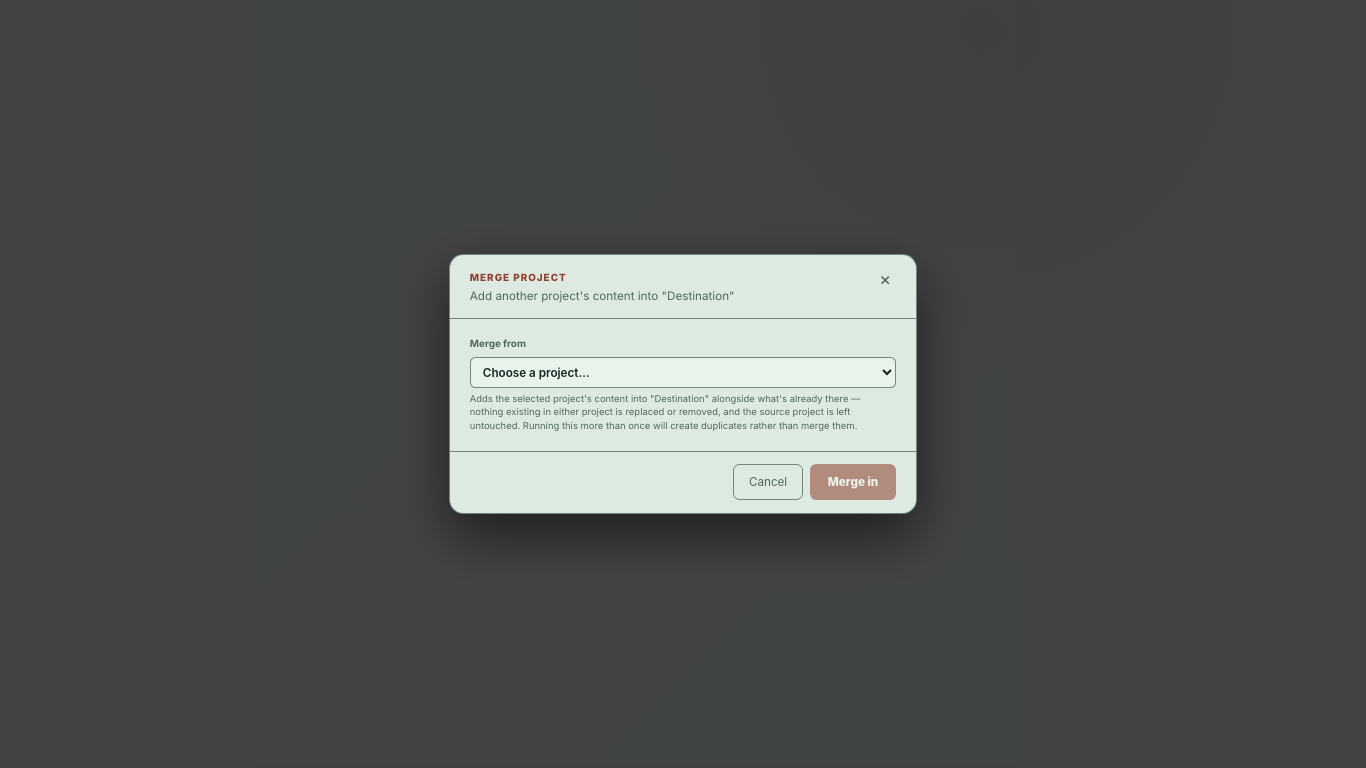
MergeProjectModal › shows a content checklist once a source is picked, and the Merge in button stays disabled until then
Expected: the button "Merge in" is disabled, x1=810 y1=464 x2=896 y2=500
Select "Source Novel" in the dropdown labelled "Merge from" at (683, 373), box x1=470 y1=357 x2=896 y2=388
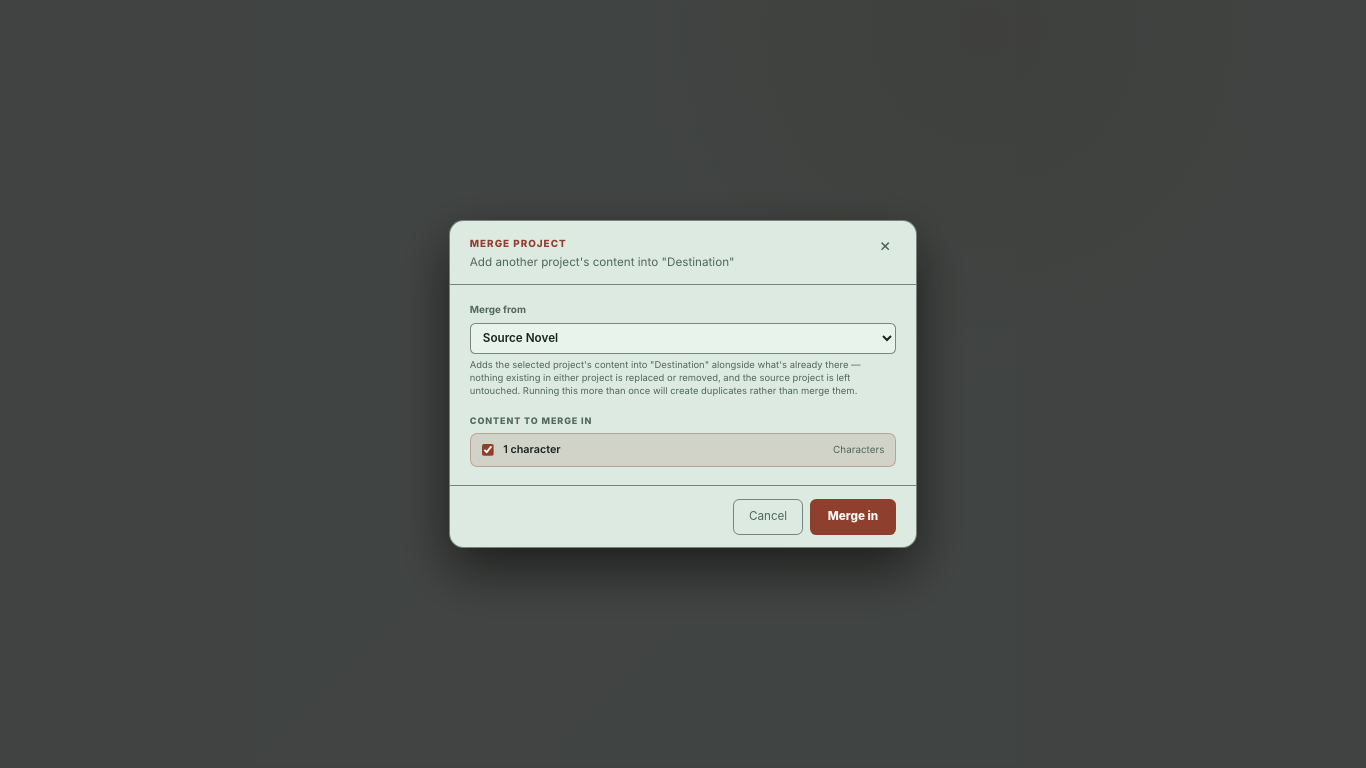
Now the text "1 character" is shown, box x1=503 y1=443 x2=561 y2=456
Now the button "Merge in" is enabled, box x1=810 y1=499 x2=896 y2=534
